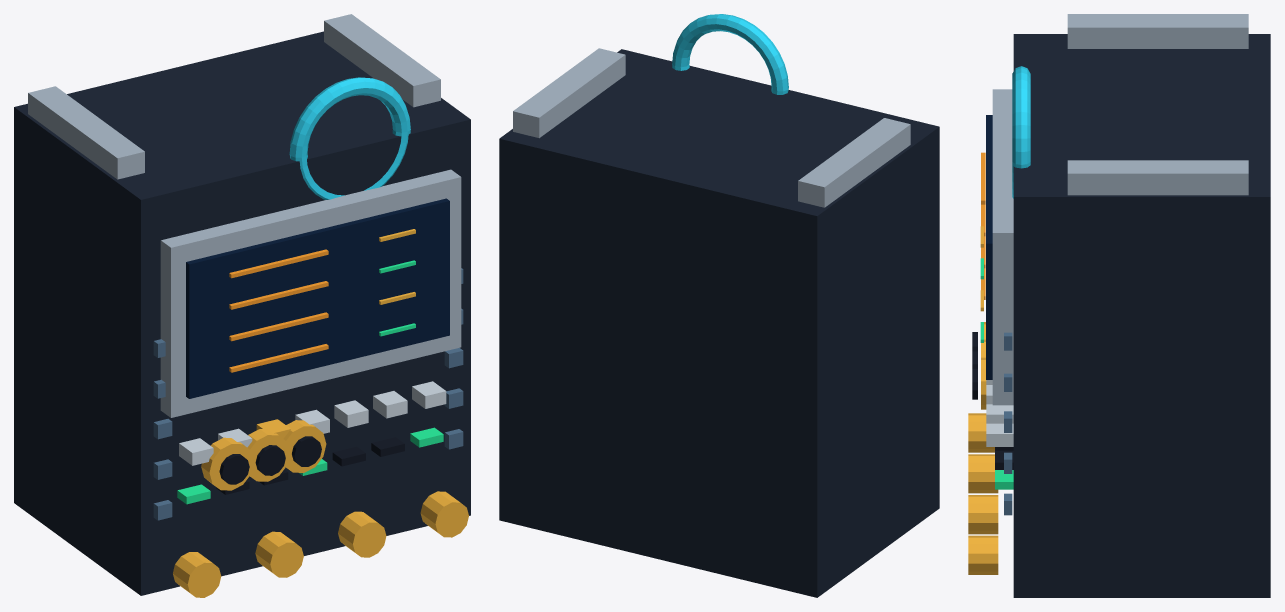
File: 52_L85_CollisionAvoidancePredictionMonitor.fbx
The picture shows the model from 3 angles, left to right: view 1: azimuth 30°, elevation 25°; view 2: azimuth 150°, elevation 25°; view 3: azimuth 270°, elevation 25°; orthographic projection. The views are drawn at different scales.
Visible parts, largest first — view 1: L85_CollisionAvoidancePredictionMonitor_Part_0000, L85_CollisionAvoidancePredictionMonitor_Part_0002, L85_CollisionAvoidancePredictionMonitor_Part_0001, L85_CollisionAvoidancePredictionMonitor_Part_0004, L85_CollisionAvoidancePredictionMonitor_Part_0009, L85_CollisionAvoidancePredictionMonitor_Part_0006, L85_CollisionAvoidancePredictionMonitor_Part_0008, L85_CollisionAvoidancePredictionMonitor_Part_0003, L85_CollisionAvoidancePredictionMonitor_Part_0005, L85_CollisionAvoidancePredictionMonitor_Part_0007, L85_CollisionAvoidancePredictionMonitor_Part_0010, L85_CollisionAvoidancePredictionMonitor_Part_0012 (+4 smaller); view 2: L85_CollisionAvoidancePredictionMonitor_Part_0000, L85_CollisionAvoidancePredictionMonitor_Part_0001, L85_CollisionAvoidancePredictionMonitor_Part_0009; view 3: L85_CollisionAvoidancePredictionMonitor_Part_0000, L85_CollisionAvoidancePredictionMonitor_Part_0001, L85_CollisionAvoidancePredictionMonitor_Part_0004, L85_CollisionAvoidancePredictionMonitor_Part_0009, L85_CollisionAvoidancePredictionMonitor_Part_0002, L85_CollisionAvoidancePredictionMonitor_Part_0006, L85_CollisionAvoidancePredictionMonitor_Part_0008, L85_CollisionAvoidancePredictionMonitor_Part_0003, L85_CollisionAvoidancePredictionMonitor_Part_0005.
Boxes of the visible parts, <box> form: L85_CollisionAvoidancePredictionMonitor_Part_0000: <box>14,31,470,595</box>; L85_CollisionAvoidancePredictionMonitor_Part_0002: <box>186,198,449,398</box>; L85_CollisionAvoidancePredictionMonitor_Part_0001: <box>28,14,461,417</box>; L85_CollisionAvoidancePredictionMonitor_Part_0004: <box>173,229,468,597</box>; L85_CollisionAvoidancePredictionMonitor_Part_0009: <box>289,77,410,199</box>; L85_CollisionAvoidancePredictionMonitor_Part_0006: <box>179,381,446,465</box>; L85_CollisionAvoidancePredictionMonitor_Part_0008: <box>153,268,463,520</box>; L85_CollisionAvoidancePredictionMonitor_Part_0003: <box>229,249,328,372</box>; L85_CollisionAvoidancePredictionMonitor_Part_0005: <box>177,260,443,504</box>; L85_CollisionAvoidancePredictionMonitor_Part_0007: <box>216,437,404,494</box>; L85_CollisionAvoidancePredictionMonitor_Part_0010: <box>201,437,253,490</box>; L85_CollisionAvoidancePredictionMonitor_Part_0012: <box>247,429,289,481</box>; L85_CollisionAvoidancePredictionMonitor_Part_0000: <box>499,49,939,597</box>; L85_CollisionAvoidancePredictionMonitor_Part_0001: <box>513,48,910,207</box>; L85_CollisionAvoidancePredictionMonitor_Part_0009: <box>672,14,788,94</box>; L85_CollisionAvoidancePredictionMonitor_Part_0000: <box>1013,34,1270,597</box>; L85_CollisionAvoidancePredictionMonitor_Part_0001: <box>992,14,1248,405</box>; L85_CollisionAvoidancePredictionMonitor_Part_0004: <box>968,226,998,574</box>; L85_CollisionAvoidancePredictionMonitor_Part_0009: <box>1012,66,1030,198</box>; L85_CollisionAvoidancePredictionMonitor_Part_0002: <box>986,115,992,379</box>; L85_CollisionAvoidancePredictionMonitor_Part_0006: <box>986,380,1013,446</box>; L85_CollisionAvoidancePredictionMonitor_Part_0008: <box>1004,332,1012,515</box>; L85_CollisionAvoidancePredictionMonitor_Part_0003: <box>981,152,985,299</box>; L85_CollisionAvoidancePredictionMonitor_Part_0005: <box>980,258,1013,489</box>.
Size of the model in its own units: 95.88 by 128 by 75.2.
